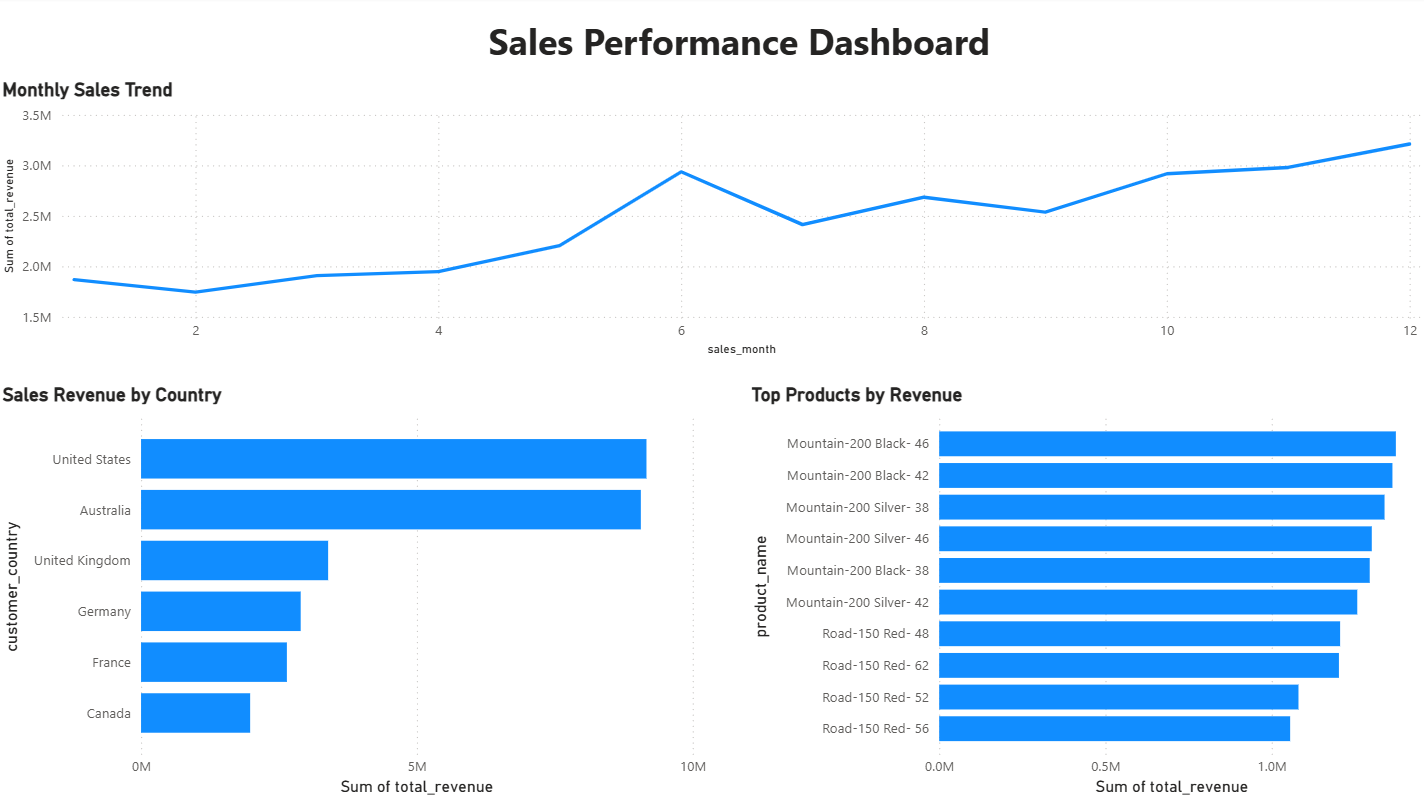

The page's visual inventory and layout, read from the dashboard file:
{"tool":"powerbi","page":{"name":"Page 1","canvas":[1280,720],"ordinal":0},"visuals":[{"type":"lineChart","title":"Monthly Sales Trend","fields":{"Category":["gold sales_by_month.sales_month"],"Y":["Sum(gold sales_by_month.total_revenue)"]},"box":[0,72.9,1280,252.9],"z":0},{"type":"clusteredBarChart","title":"Sales Revenue by Country","fields":{"Category":["gold sales_by_country.customer_country"],"Y":["Sum(gold sales_by_country.total_revenue)"]},"box":[0,345.3,640,374.5],"z":1000},{"type":"clusteredBarChart","title":"Top Products by Revenue","fields":{"Category":["gold top_products.product_name"],"Y":["Sum(gold top_products.total_revenue)"]},"box":[671.1,345.3,608.9,374.5],"z":2000},{"type":"textbox","box":[435,12,471,54],"z":3000}]}

Visuals, with their boxes in screenshot pixels (x1, y1, x2, y2), scaled from the page's 1280x720 canvas onto the 1424x798 screenshot:
"Monthly Sales Trend" lineChart: bbox(0, 81, 1423, 361)
"Sales Revenue by Country" clusteredBarChart: bbox(0, 383, 712, 797)
"Top Products by Revenue" clusteredBarChart: bbox(747, 383, 1423, 797)
textbox: bbox(484, 13, 1008, 73)
